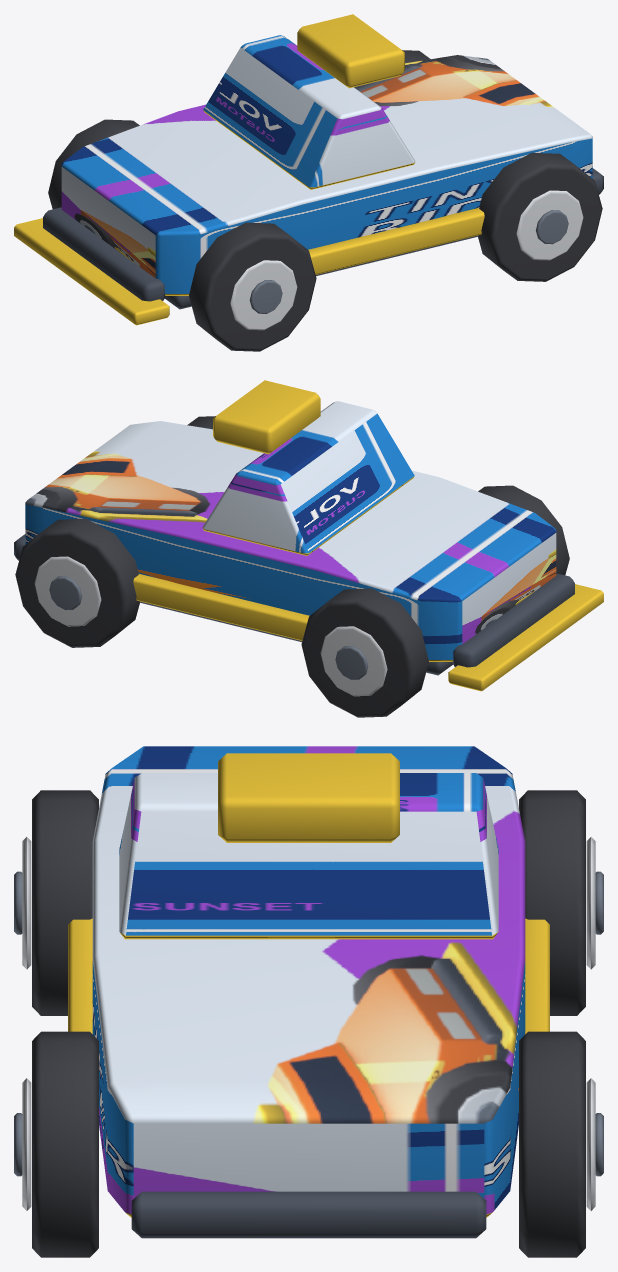
3 renders of one model, top to bottom at view 1: azimuth 30°, elevation 25°; view 2: azimuth 150°, elevation 25°; view 3: azimuth 270°, elevation 25°, orthographic. The views are drawn at different scales.
Visible parts, largest first — view 1: FF-03_connected_shell, FF-03_cabin, Tire, Tire.002, custom equipment, custom side guard, custom chin, front bumper, Rim.002, Rim, Tire.001, Hub.002 (+2 smaller); view 2: FF-03_connected_shell, FF-03_cabin, Tire.001, Tire.003, custom equipment, custom side guard.001, custom chin, front bumper, Rim.003, Rim.001, Tire, Hub.003 (+2 smaller); view 3: FF-03_connected_shell, FF-03_cabin, rear bumper, custom equipment, Tire.002, Tire.003, Tire, Tire.001, custom side guard, custom side guard.001, Rim.002, Rim.003 (+2 smaller).
Boxes of the visible parts, x1,y1,x2,y2 form: FF-03_connected_shell: (61,55,592,295); FF-03_cabin: (203,35,415,189); Tire: (189,222,316,351); Tire.002: (477,152,602,281); custom equipment: (297,14,404,88); custom side guard: (308,208,484,274); custom chin: (14,218,169,325); front bumper: (43,207,165,301); Rim.002: (516,190,583,260); Rim: (230,260,297,330); Tire.001: (48,119,139,209); Hub.002: (535,210,568,244); FF-03_connected_shell: (25,421,556,661); FF-03_cabin: (202,401,414,555); Tire.001: (301,588,428,717); Tire.003: (15,518,140,647); custom equipment: (213,380,320,454); custom side guard.001: (133,574,309,640); custom chin: (448,584,603,691); front bumper: (452,573,574,667); Rim.003: (34,556,101,626); Rim.001: (320,626,387,696); Tire: (478,485,569,575); Hub.003: (49,576,82,610); FF-03_connected_shell: (92,746,525,1217); FF-03_cabin: (119,773,498,939); rear bumper: (131,1191,486,1238); custom equipment: (218,753,399,842); Tire.002: (32,1031,98,1257); Tire.003: (519,1031,585,1257); Tire: (32,790,98,1015); Tire.001: (519,790,585,1015); custom side guard: (68,918,92,1033); custom side guard.001: (525,918,549,1033); Rim.002: (22,1078,31,1210); Rim.003: (586,1078,595,1210).
Bounding box in the file's own units: 373 × 160 × 229.
